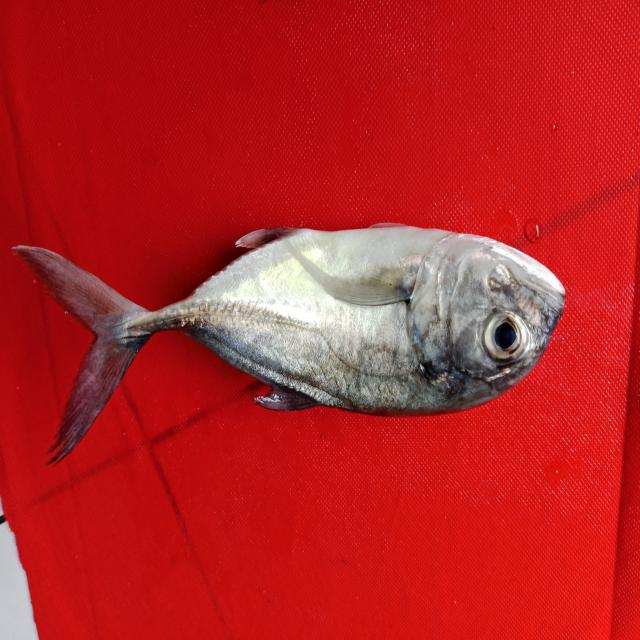ikan: (15, 183, 583, 479)
